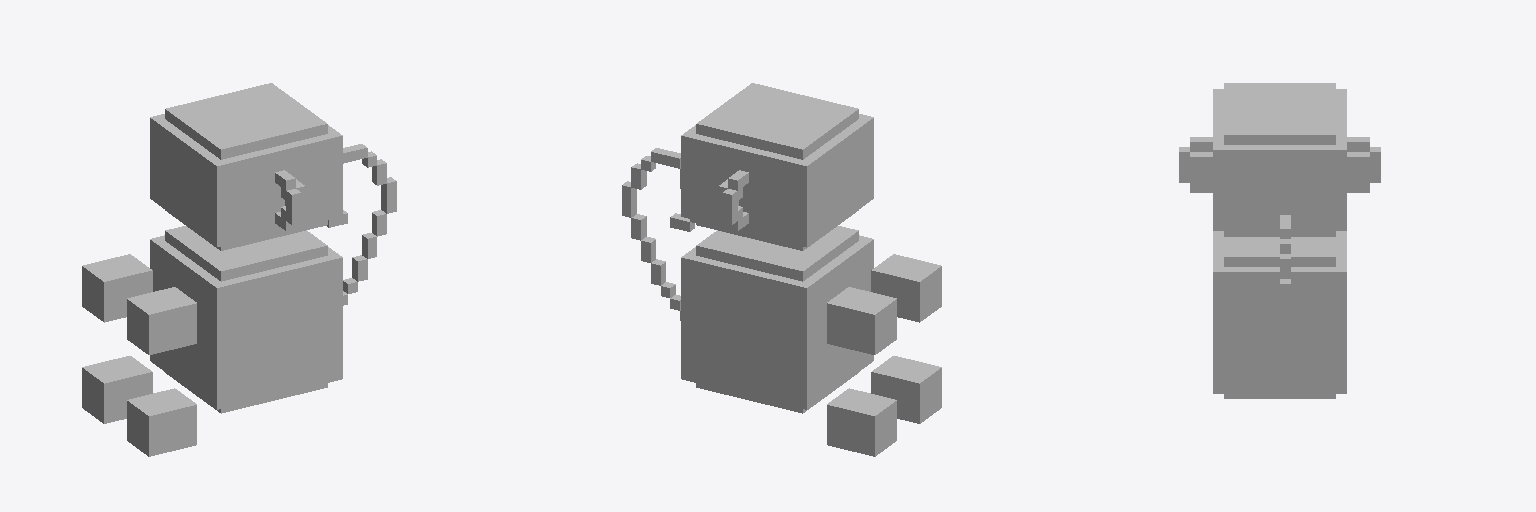
File: penzee.obj
The picture shows the model from 3 angles: view 1: azimuth 30°, elevation 25°; view 2: azimuth 150°, elevation 25°; view 3: azimuth 270°, elevation 25°; orthographic projection.
Parts seen in each view (by area): view 1: penzee; view 2: penzee; view 3: penzee.
Part boxes in pixels (x1,y1,x2,y2): penzee: (82, 83, 396, 456); penzee: (622, 83, 941, 456); penzee: (1179, 83, 1380, 398).
Bounding box in the file's own units: 29 × 28 × 18.